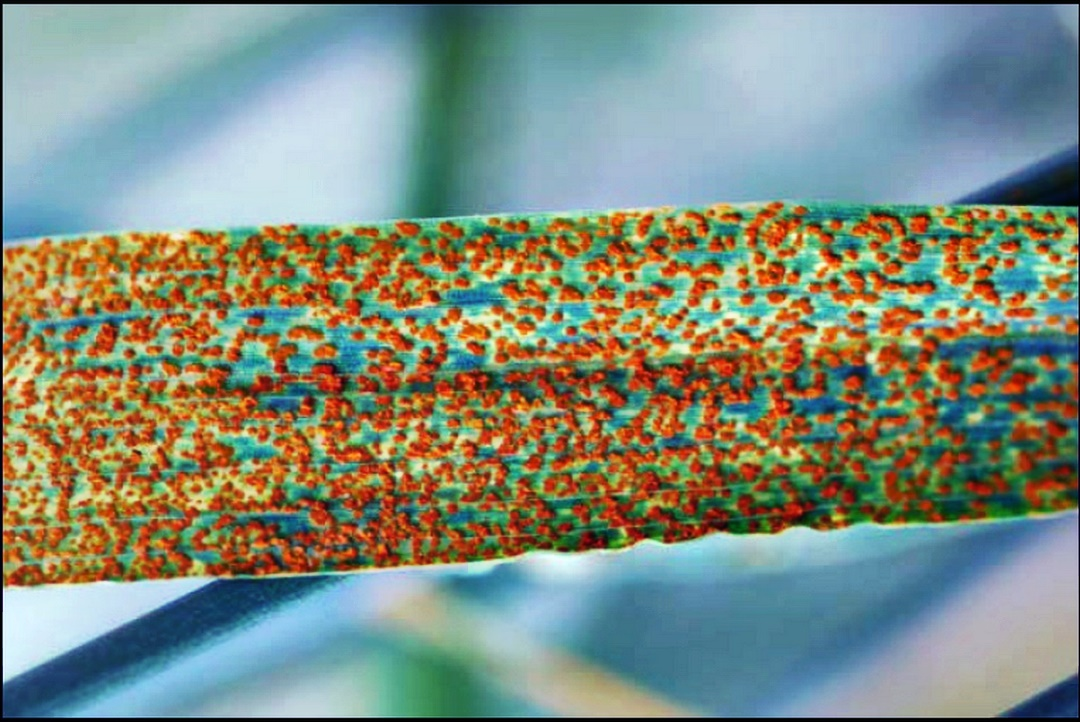Leaf Rust: (34, 178, 1080, 570)
